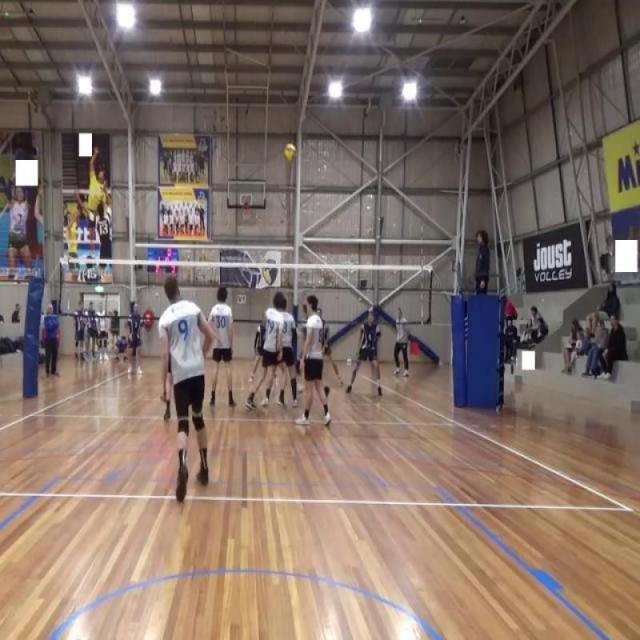volleyball: (282, 142, 298, 164)
